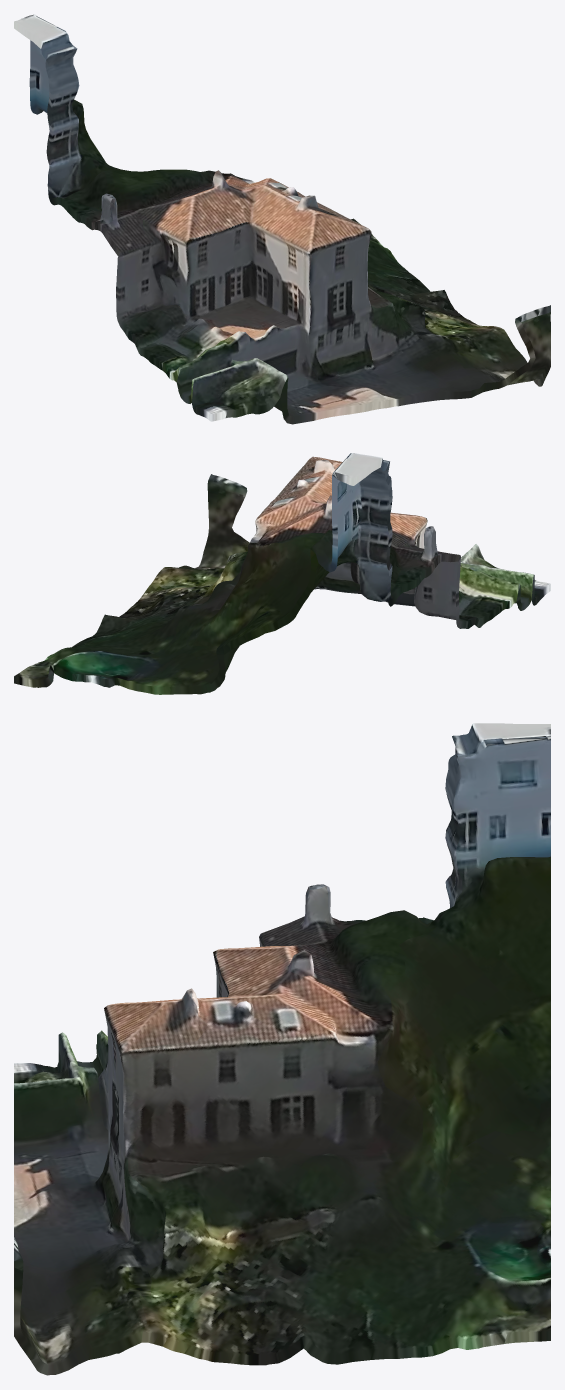
The model's file is z20-167721-405193-h0-yup-uvflip-v3-world.glb.
3 views of the same model, one above another, from view 1: azimuth 30°, elevation 25°; view 2: azimuth 150°, elevation 25°; view 3: azimuth 270°, elevation 25° (orthographic). The views are drawn at different scales.
Size of the model in its own units: 30.16 by 26.68 by 30.32.
Materials: 1 (1 with a texture image).
